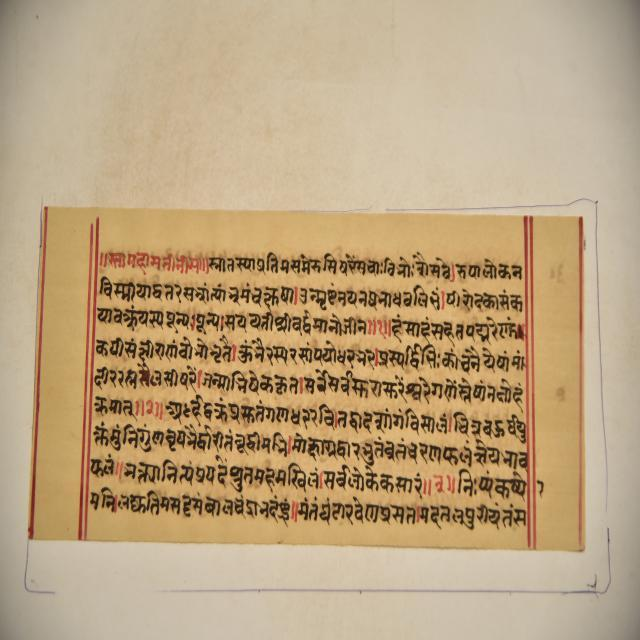text_paragraph: (26, 208, 584, 555)
